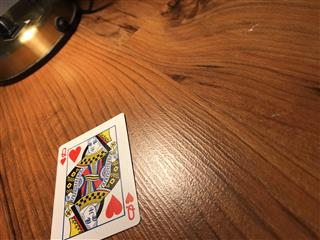QueenOfHearts: (49, 112, 140, 240)
